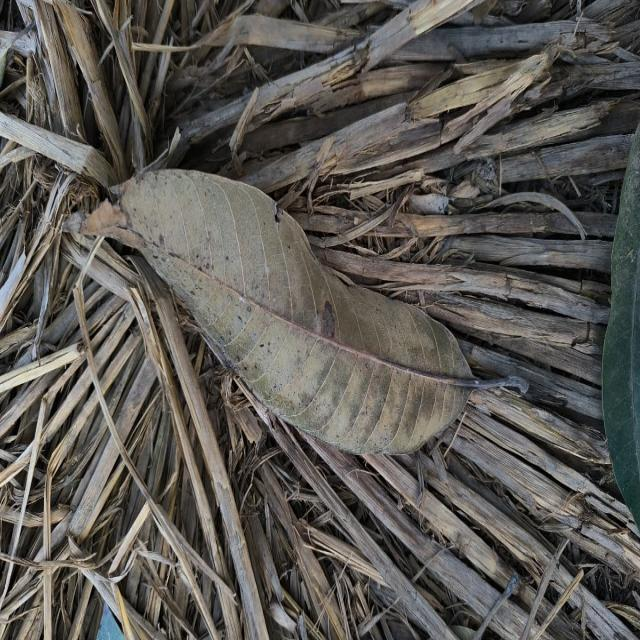Anthracnose: (318, 300, 335, 338), (316, 304, 334, 337), (159, 233, 165, 243), (225, 253, 230, 263), (247, 305, 253, 312), (205, 262, 210, 269), (259, 343, 264, 347)
Bacterial Cancer: (104, 188, 132, 238), (272, 202, 284, 225)
